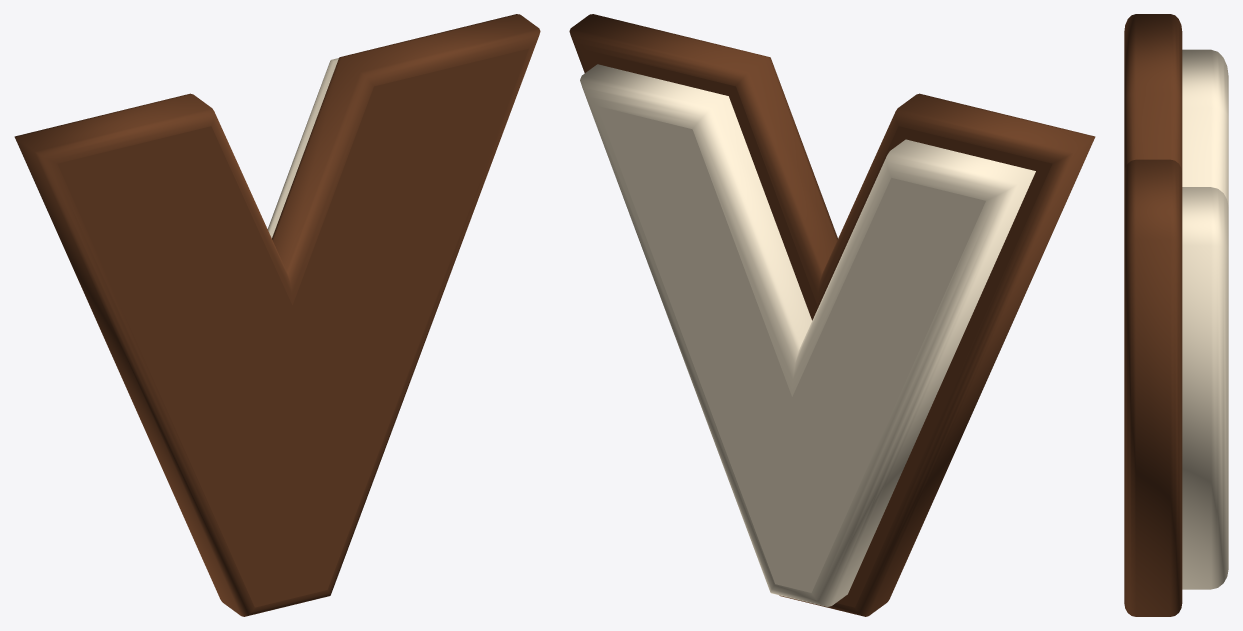
The model's file is Letter_V.fbx.
The picture shows the model from 3 angles, left to right: view 1: azimuth 30°, elevation 25°; view 2: azimuth 150°, elevation 25°; view 3: azimuth 270°, elevation 25°; orthographic projection. The views are drawn at different scales.
Visible parts, largest first — view 1: Letter_V; view 2: Letter_V; view 3: Letter_V.
Boxes of the visible parts, x1,y1,x2,y2 form: Letter_V: (14, 14, 540, 616); Letter_V: (569, 14, 1095, 616); Letter_V: (1124, 14, 1228, 616).
Bounding box in the file's own units: 0.9213 × 0.898 × 0.18.
1 material, 1 textured.
